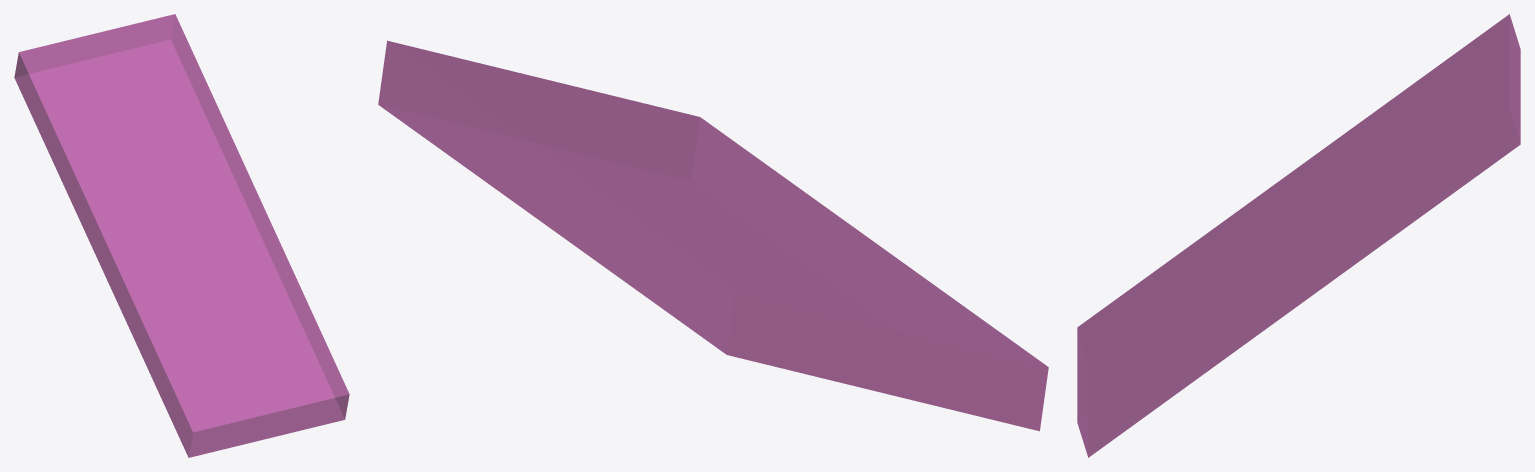
Rendered from SM_Bld_Roof_Half_02_Collision_01.fbx.
3 views of the same model, side by side, from view 1: azimuth 30°, elevation 25°; view 2: azimuth 150°, elevation 25°; view 3: azimuth 270°, elevation 25° (orthographic). The views are drawn at different scales.
Parts seen in each view (by area): view 1: SM_Bld_Roof_Half_02_Collision_01; view 2: SM_Bld_Roof_Half_02_Collision_01; view 3: SM_Bld_Roof_Half_02_Collision_01.
Part boxes in pixels (left/top/right/bottom): SM_Bld_Roof_Half_02_Collision_01: left=14, top=14, right=349, bottom=457; SM_Bld_Roof_Half_02_Collision_01: left=378, top=40, right=1048, bottom=431; SM_Bld_Roof_Half_02_Collision_01: left=1077, top=14, right=1520, bottom=457.
Bounding box in the file's own units: 132 × 227 × 261.
